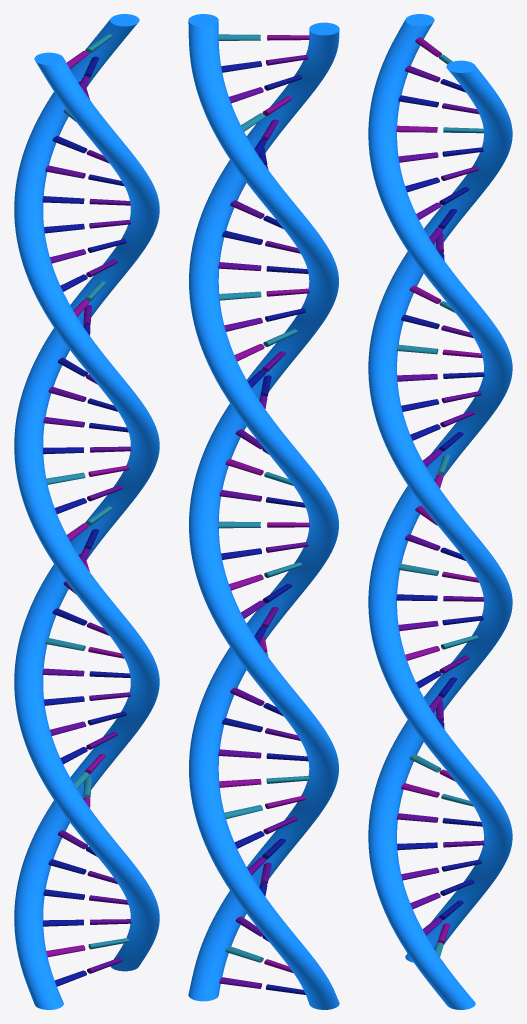
The model's file is DNA.glb.
The picture shows the model from 3 angles, left to right: view 1: azimuth 30°, elevation 25°; view 2: azimuth 150°, elevation 25°; view 3: azimuth 270°, elevation 25°; orthographic projection. The views are drawn at different scales.
Visible parts, largest first — view 1: DNA_Base, DNA_a, DNA_c, DNA_t, DNA_g; view 2: DNA_Base, DNA_c, DNA_a, DNA_g, DNA_t; view 3: DNA_Base, DNA_c, DNA_a, DNA_g, DNA_t.
Boxes of the visible parts, <box> form: DNA_Base: <box>14,14,159,1009</box>; DNA_a: <box>42,56,130,986</box>; DNA_c: <box>42,76,131,973</box>; DNA_t: <box>45,34,129,949</box>; DNA_g: <box>46,51,129,957</box>; DNA_Base: <box>188,14,339,1009</box>; DNA_c: <box>218,55,308,988</box>; DNA_a: <box>221,61,308,994</box>; DNA_g: <box>219,35,309,973</box>; DNA_t: <box>218,34,309,962</box>; DNA_Base: <box>368,14,512,1009</box>; DNA_c: <box>397,65,484,935</box>; DNA_a: <box>396,79,484,949</box>; DNA_g: <box>396,37,482,943</box>; DNA_t: <box>397,54,484,956</box>.
Size of the model in its own units: 0.0293 by 0.2101 by 0.0293.
